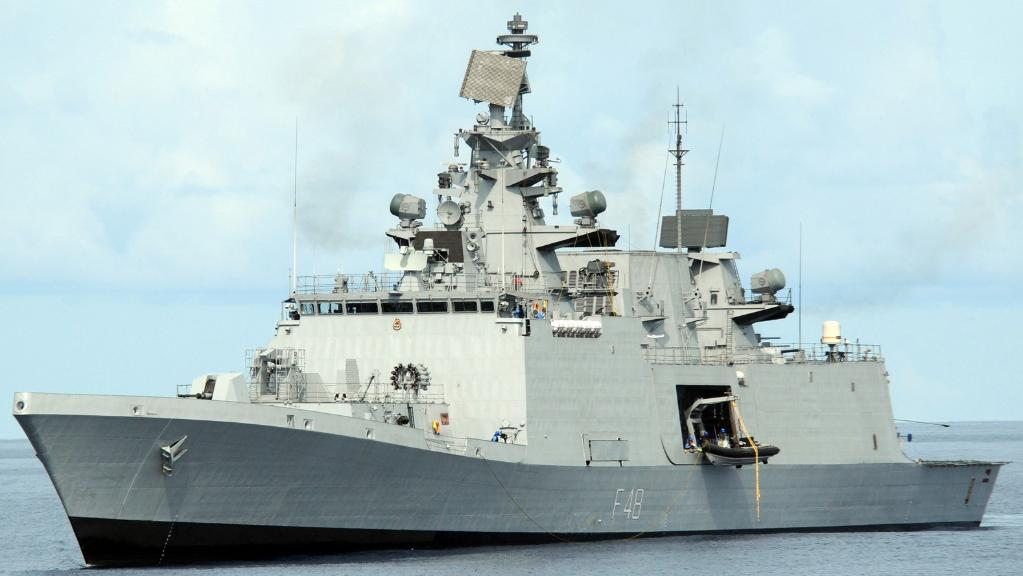Warship: (2, 9, 1014, 570)
